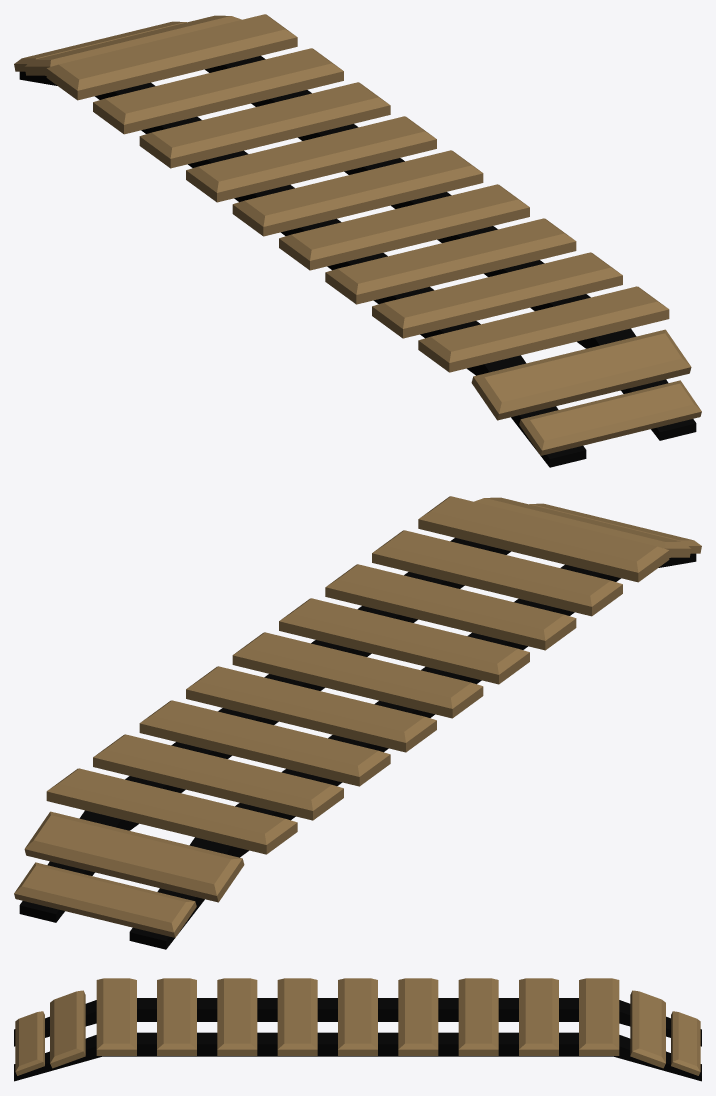
The model's file is road.obj.
The picture shows the model from 3 angles, top to bottom: view 1: azimuth 30°, elevation 25°; view 2: azimuth 150°, elevation 25°; view 3: azimuth 270°, elevation 25°; orthographic projection. The views are drawn at different scales.
Parts seen in each view (by area): view 1: Cube, Cube.002, Cube.001, Cube.003_Cube.002; view 2: Cube, Cube.002, Cube.001, Cube.003_Cube.002; view 3: Cube, Cube.001, Cube.002, Cube.003_Cube.002.
Part boxes in pixels (<box>): Cube: <box>46,14,669,372</box>; Cube.002: <box>24,15,691,420</box>; Cube.001: <box>19,55,696,467</box>; Cube.003_Cube.002: <box>14,21,701,455</box>; Cube: <box>46,496,669,854</box>; Cube.002: <box>24,497,691,902</box>; Cube.001: <box>19,537,696,949</box>; Cube.003_Cube.002: <box>14,503,701,937</box>; Cube: <box>96,978,619,1055</box>; Cube.001: <box>14,998,701,1081</box>; Cube.002: <box>50,990,665,1068</box>; Cube.003_Cube.002: <box>15,1011,700,1075</box>.
Bounding box in the file's own units: 0.12 × 0.0379 × 0.501.
1 material, 1 textured.
